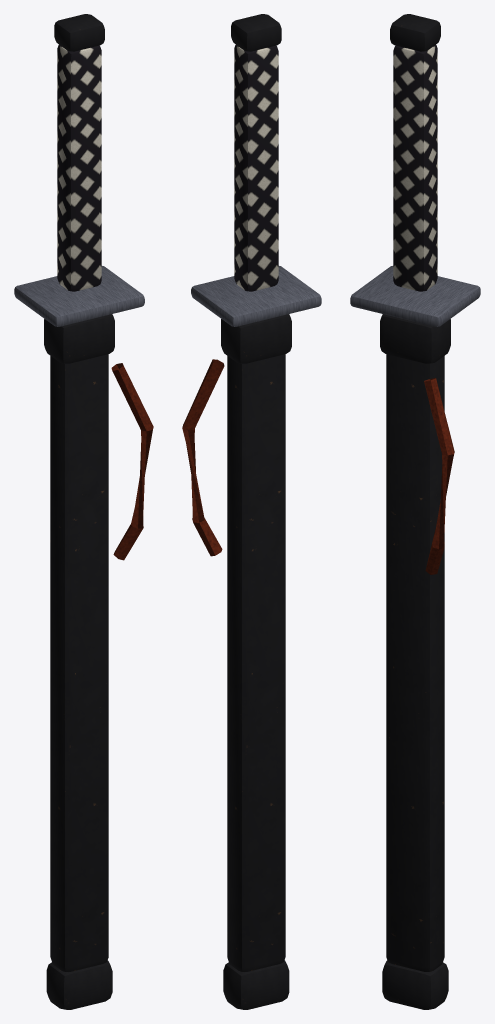
File: ninjato.gltf
3 renders of one model, left to right at view 1: azimuth 30°, elevation 25°; view 2: azimuth 210°, elevation 25°; view 3: azimuth 330°, elevation 25°, orthographic.
Parts seen in each view (by area): view 1: NinjatoMesh; view 2: NinjatoMesh; view 3: NinjatoMesh.
Part boxes in pixels (left/top/right/bottom): NinjatoMesh: left=14, top=14, right=153, bottom=1009; NinjatoMesh: left=182, top=14, right=321, bottom=1009; NinjatoMesh: left=350, top=14, right=480, bottom=1009.
Size of the model in its own units: 0.1009 by 0.931 by 0.075.
4 materials, 4 textured.
